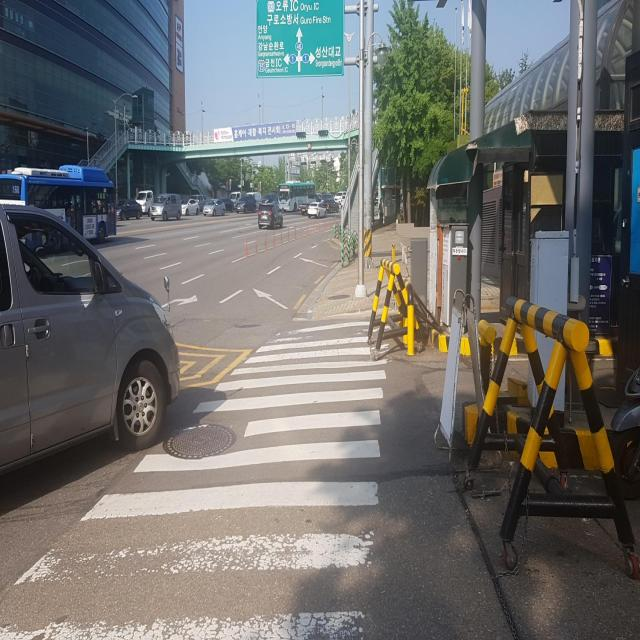횡단보도: (0, 315, 395, 640)
